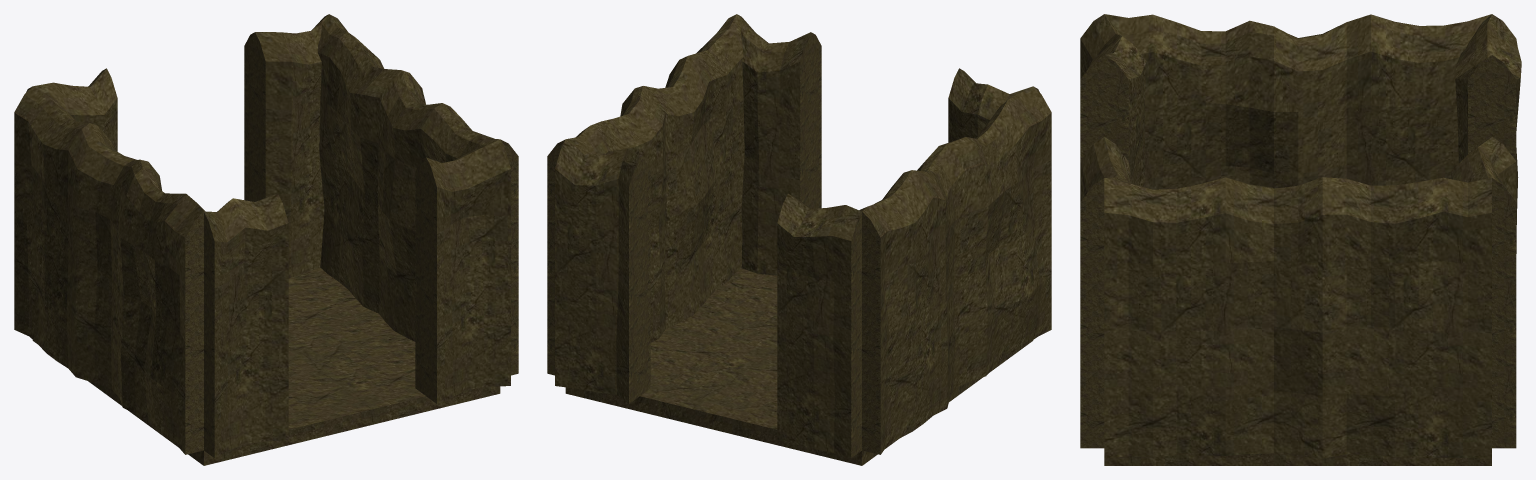
File: cave_room_01_limestone.glb
3 views of the same model, side by side, from view 1: azimuth 30°, elevation 25°; view 2: azimuth 150°, elevation 25°; view 3: azimuth 270°, elevation 25° (orthographic). The views are drawn at different scales.
Visible parts, largest first — view 1: cave_room_01_limestone; view 2: cave_room_01_limestone; view 3: cave_room_01_limestone.
Boxes of the visible parts, x1,y1,x2,y2 form: cave_room_01_limestone: (14,14,518,465); cave_room_01_limestone: (547,14,1051,465); cave_room_01_limestone: (1080,14,1521,465).
Bounding box in the file's own units: 4.58 × 3.3 × 4.56.
Materials: 2 (2 with a texture image).
